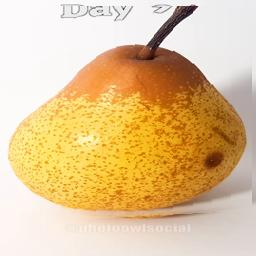Pear Semirotten: (9, 7, 252, 224)
